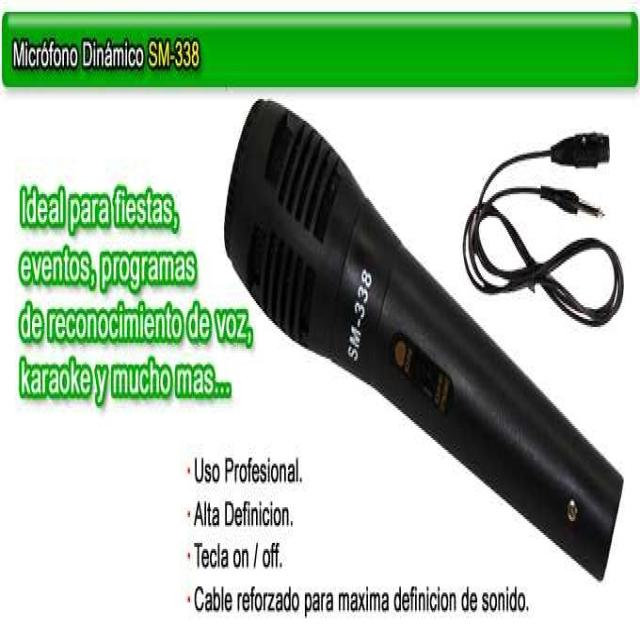microphone: (221, 88, 631, 594)
